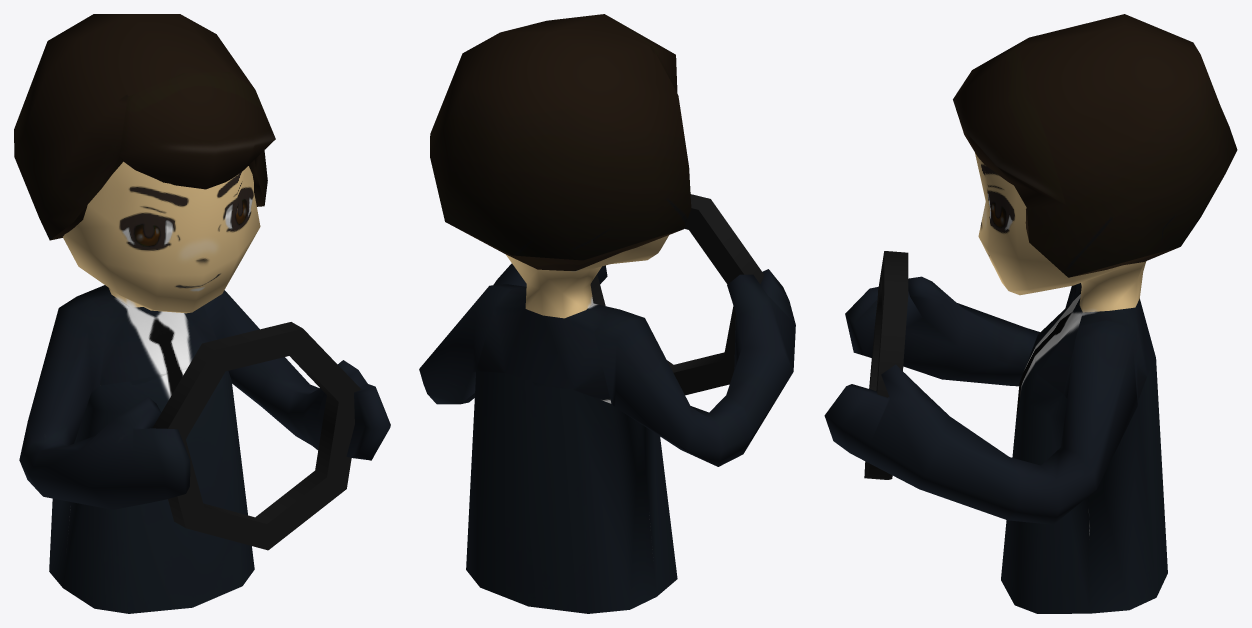
The model's file is Human_Driver.FBX.
3 renders of one model, left to right at view 1: azimuth 30°, elevation 25°; view 2: azimuth 150°, elevation 25°; view 3: azimuth 270°, elevation 25°, orthographic. The views are drawn at different scales.
Parts seen in each view (by area): view 1: Human_SalaryMan, Wheel; view 2: Human_SalaryMan, Wheel; view 3: Human_SalaryMan, Wheel.
Boxes of the visible parts, x1,y1,x2,y2 form: Human_SalaryMan: [14, 14, 390, 613]; Wheel: [152, 322, 361, 550]; Human_SalaryMan: [419, 14, 795, 613]; Wheel: [590, 194, 764, 395]; Human_SalaryMan: [824, 14, 1237, 613]; Wheel: [864, 251, 908, 479].
Bounding box in the file's own units: 53.02 × 91.3 × 61.78.
